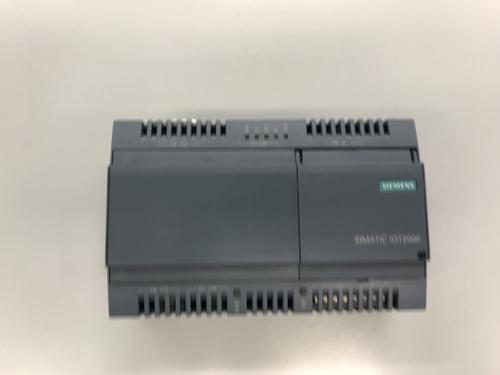device: (105, 118, 431, 318)
